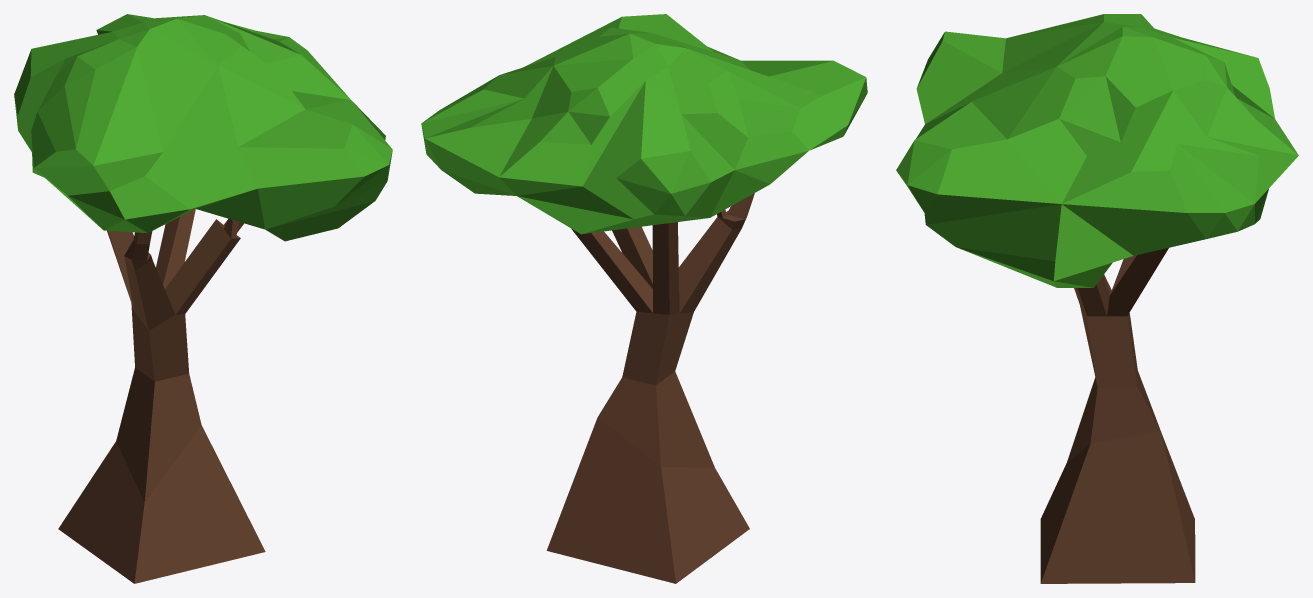
File: tree.glb
3 renders of one model, left to right at view 1: azimuth 30°, elevation 25°; view 2: azimuth 150°, elevation 25°; view 3: azimuth 270°, elevation 25°, orthographic. The views are drawn at different scales.
Parts seen in each view (by area): view 1: Cube; view 2: Cube; view 3: Cube.
Part boxes in pixels (x1,y1,x2,y2): Cube: [14, 14, 392, 583]; Cube: [421, 14, 867, 583]; Cube: [896, 14, 1298, 583].
Bounding box in the file's own units: 10.55 × 15.2 × 10.59.
